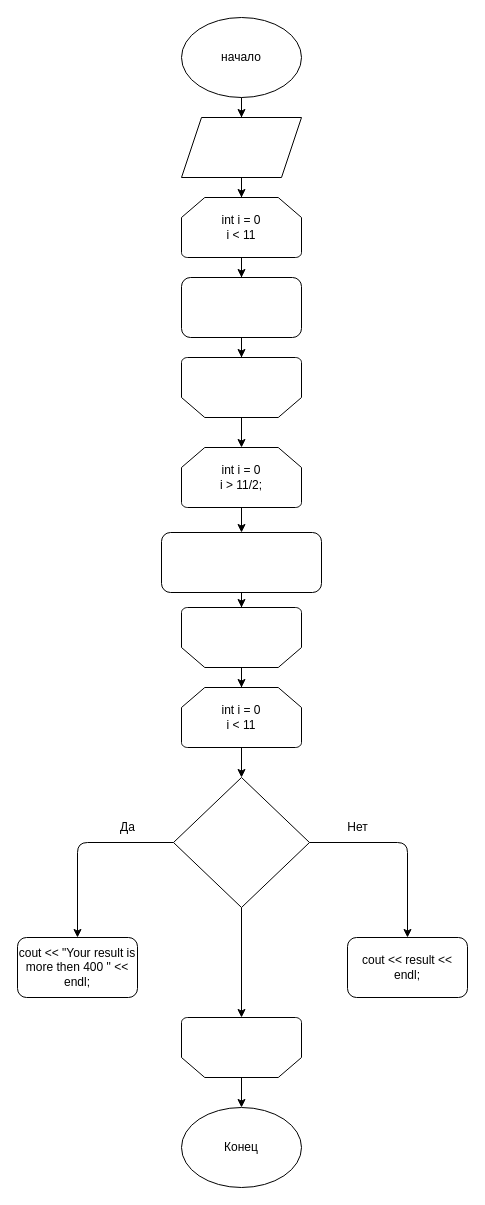
Image size: 485x1205. Some labels were removed from this diagram. Each missing label, with the centre of its shape:
"double ar[11]" belongs at (241,147).
"double d; cin>>d; ar[i]=d;" belongs at (241,307).
"sqrt(fabs(ar[i])) + 5 * pow(ar[i], 3) > 400" belongs at (241,842).
"swap(ar[i], ar[zise-1-i])" belongs at (241,562).
